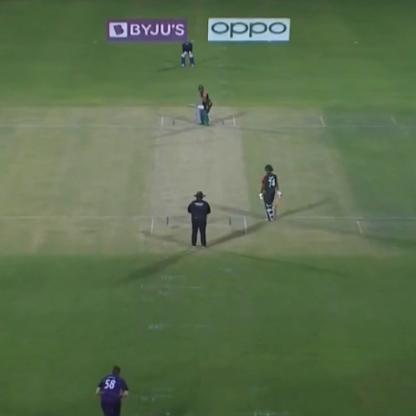pitch: (148, 115, 247, 247)
